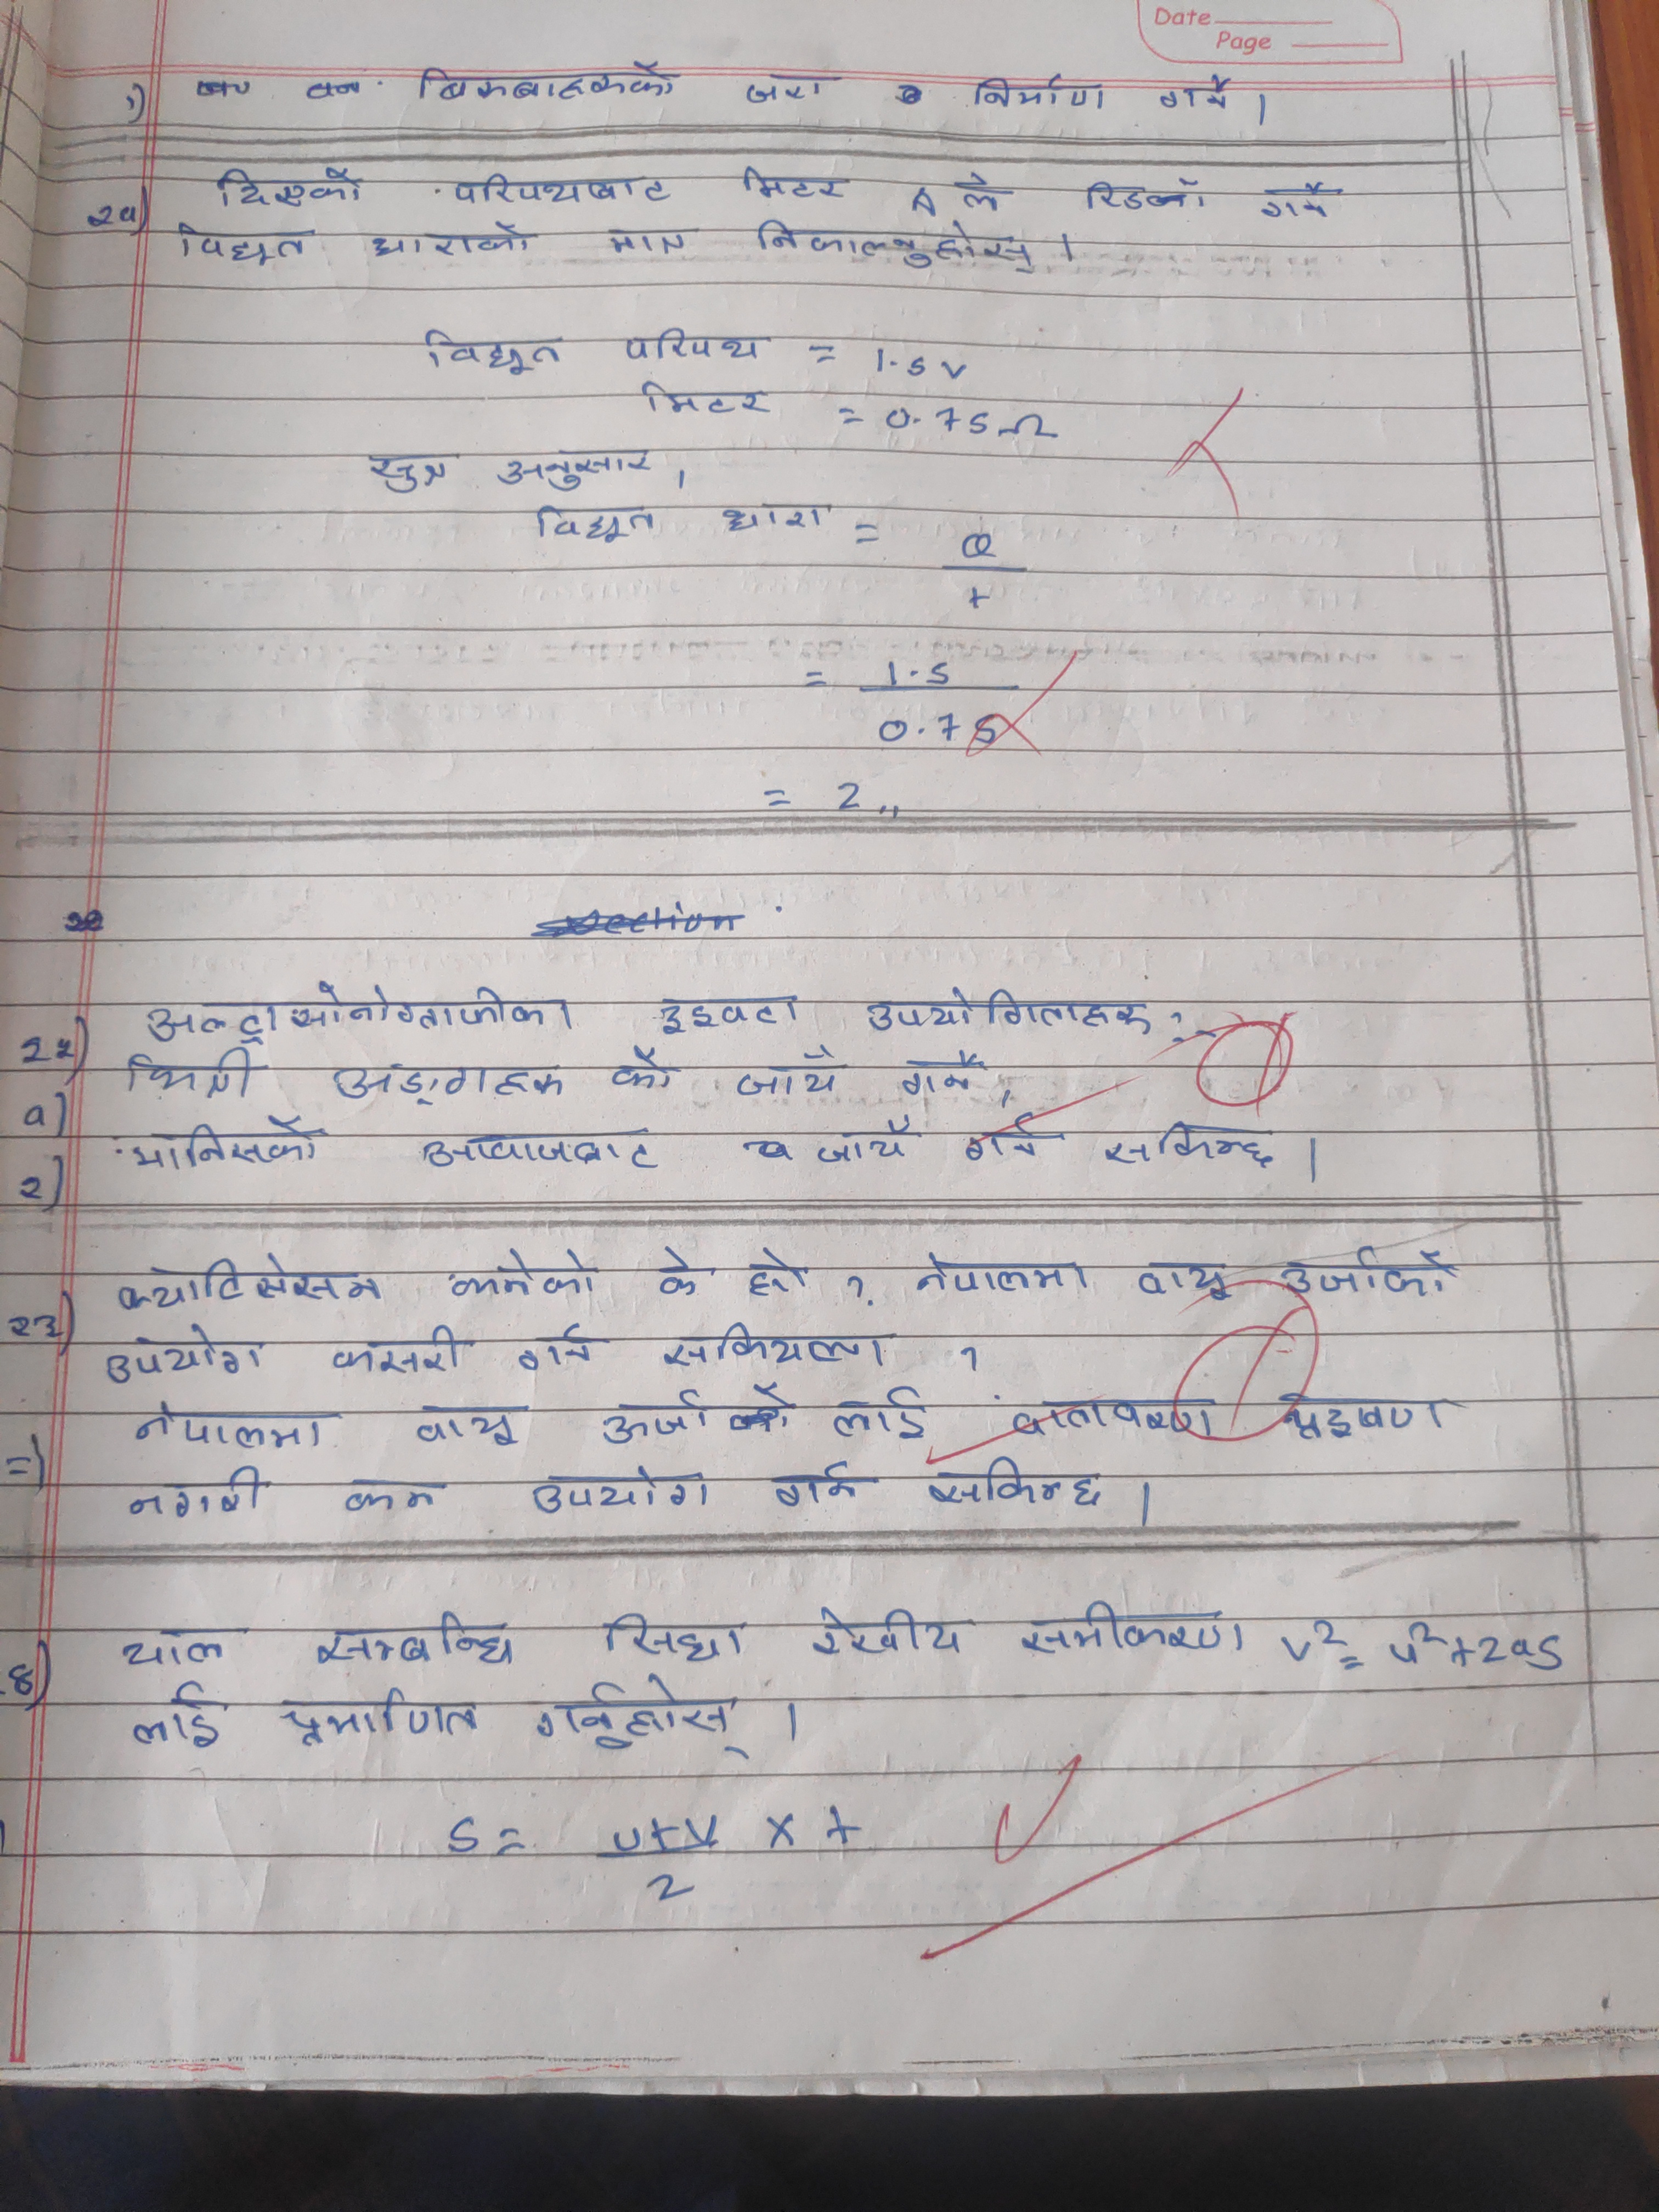text: (138, 977, 580, 1042), (749, 209, 1042, 273), (526, 1676, 751, 1759), (857, 981, 1154, 1040), (110, 1252, 389, 1313), (1016, 1588, 1248, 1660), (315, 1054, 575, 1113), (310, 1604, 523, 1674), (416, 1120, 659, 1177), (272, 1684, 486, 1749), (415, 56, 685, 106), (1279, 1240, 1471, 1305), (660, 1317, 903, 1367), (924, 1453, 1110, 1517), (803, 1599, 972, 1669), (124, 1116, 331, 1172), (131, 1397, 333, 1453), (599, 1390, 805, 1444), (904, 1247, 1105, 1301), (1002, 1400, 1218, 1449), (1098, 1115, 1286, 1170), (444, 167, 674, 212), (99, 1329, 274, 1388), (441, 1244, 601, 1305), (1269, 1388, 1455, 1440), (519, 1465, 723, 1512), (599, 1609, 749, 1672), (117, 1465, 270, 1524), (967, 63, 1114, 124), (115, 1049, 258, 1108), (354, 223, 545, 265), (326, 1324, 464, 1381), (171, 221, 315, 275), (648, 989, 809, 1036), (209, 164, 368, 211), (420, 326, 565, 374), (622, 317, 772, 364), (734, 1045, 852, 1104), (498, 449, 666, 491), (821, 1379, 929, 1444), (530, 495, 669, 543), (112, 1623, 251, 1672), (132, 1684, 228, 1752), (816, 1109, 918, 1170), (732, 158, 849, 211), (1082, 174, 1222, 216), (760, 1460, 866, 1514), (333, 1472, 451, 1519), (406, 1406, 530, 1449), (509, 1324, 606, 1378), (894, 1045, 985, 1103), (962, 1113, 1053, 1170), (744, 1244, 821, 1308), (739, 64, 847, 110), (598, 1043, 685, 1097), (1134, 1258, 1241, 1301), (1154, 68, 1239, 117), (366, 456, 467, 496), (721, 500, 842, 533), (596, 223, 697, 258), (645, 1249, 708, 1305), (1258, 185, 1340, 225), (950, 164, 1006, 214)
